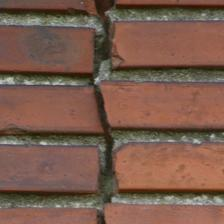Crack: (85, 12, 126, 220)
